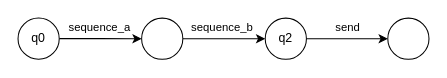
Some shapes in this 447 by 78 pixel diagram are drawn without their labels. The shapes that lost their labels are listed below. From the top down, each one's centre as x and y in pixels, then its label:
pixel 162 38: q1
pixel 408 38: q3
